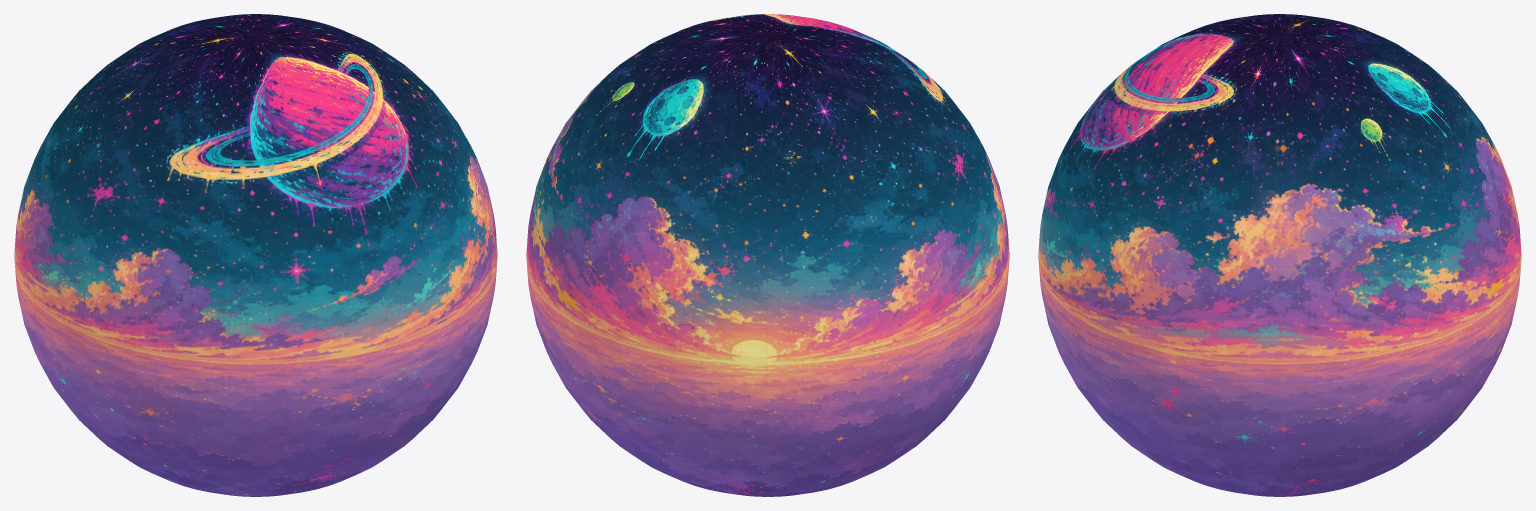
The model's file is alien_sky.glb.
3 views of the same model, side by side, from view 1: azimuth 30°, elevation 25°; view 2: azimuth 150°, elevation 25°; view 3: azimuth 270°, elevation 25° (orthographic).
Visible parts, largest first — view 1: LV_sky_dome; view 2: LV_sky_dome; view 3: LV_sky_dome.
Part boxes in pixels (x1,y1,x2,y2): LV_sky_dome: (14, 14, 497, 496); LV_sky_dome: (526, 14, 1009, 496); LV_sky_dome: (1038, 14, 1521, 496).
Bounding box in the file's own units: 840 × 840 × 840.
1 material, 1 textured.
